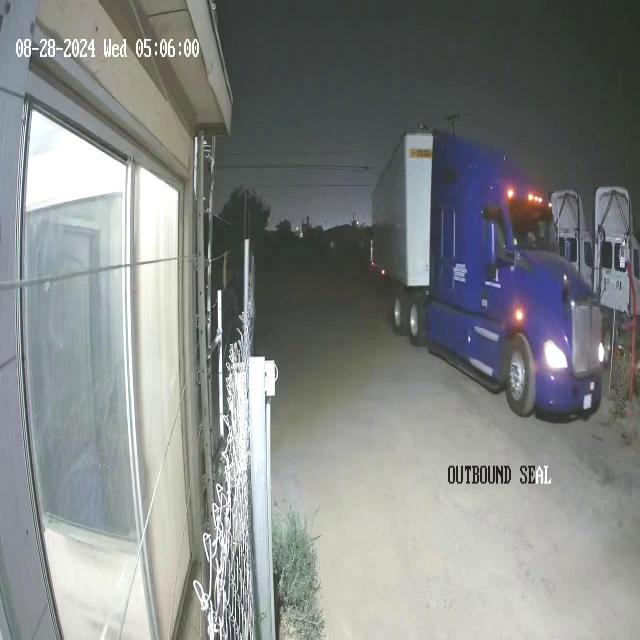CONTAINER: (371, 125, 444, 284)
